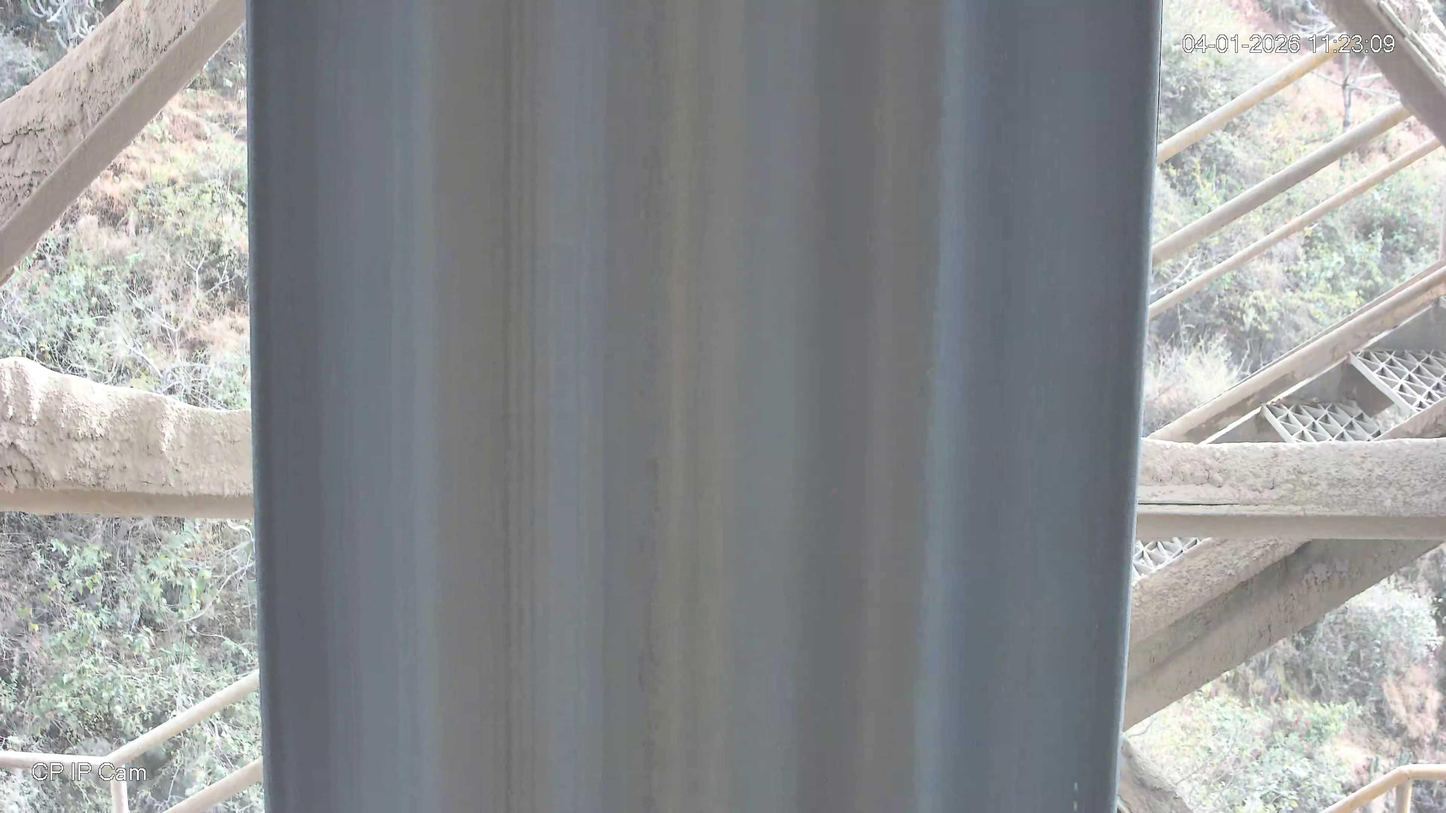belt_roi: (248, 0, 1165, 813)
